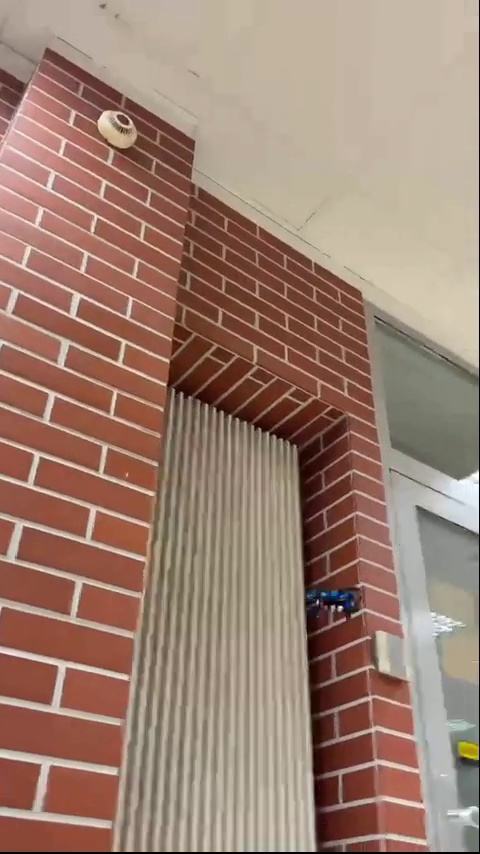drone: (307, 587, 368, 624)
